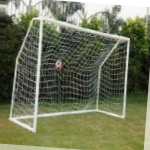goals: (9, 15, 133, 132)
